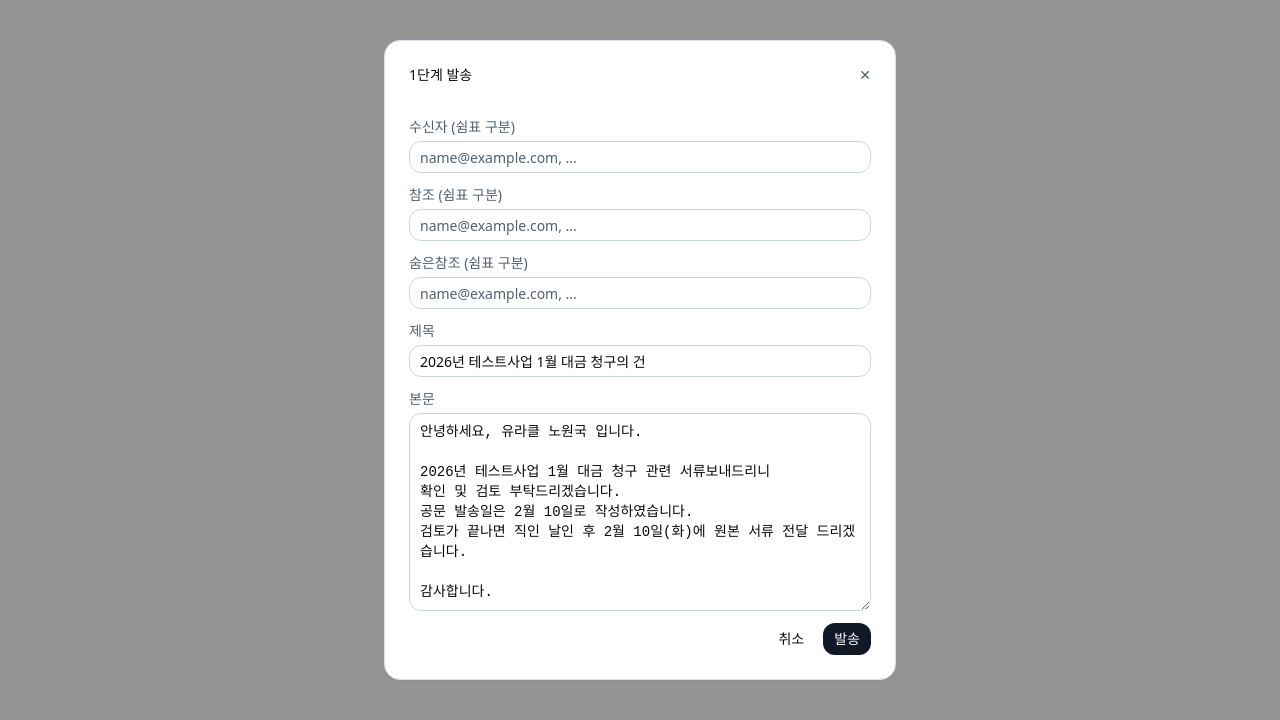
Test: SendModal fail-closed (D6) › ① 빈 To는 발송 차단(fetch 미발생) + 검증 오류
Click the button "발송".
click(847, 639)  # box [823,623,871,655]
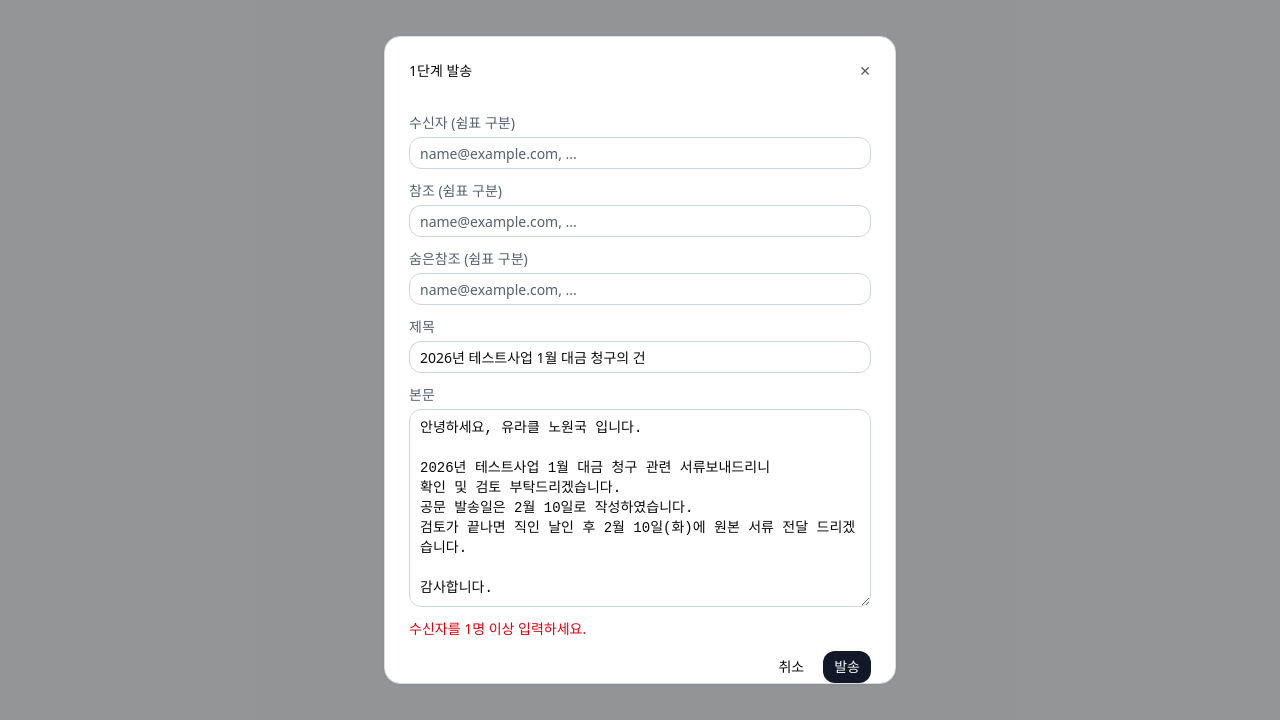
Now the text "수신자를 1명 이상 입력하세요." is shown, box [409,619,586,638]
